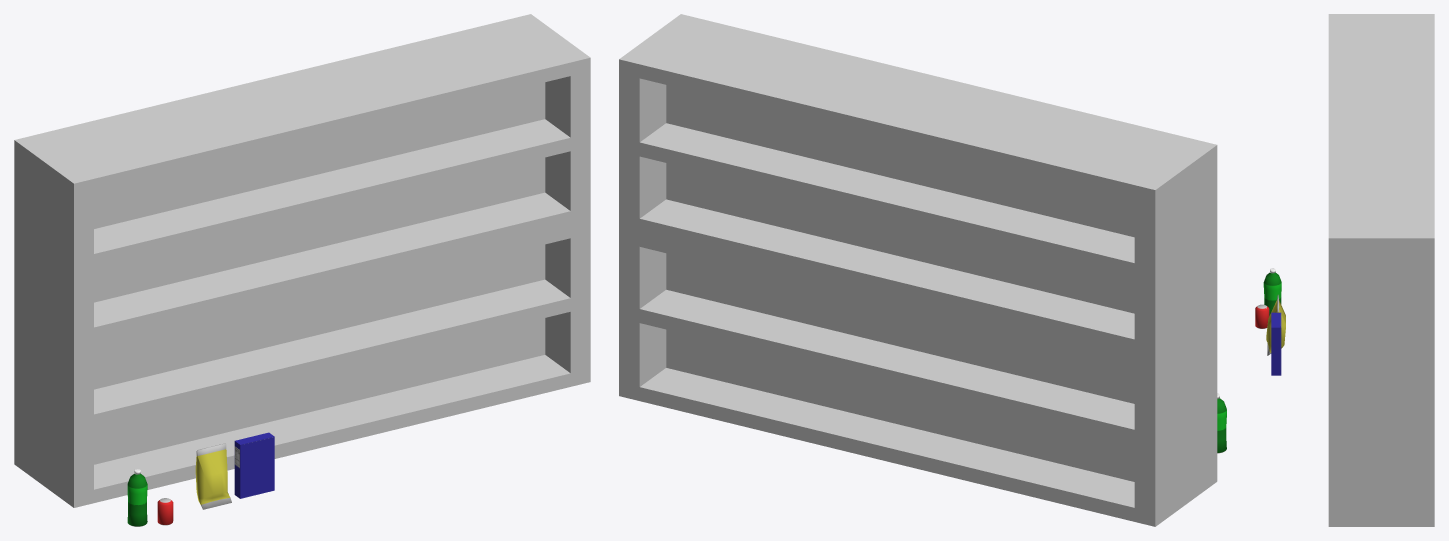
File: Shelf.fbx
The picture shows the model from 3 angles, left to right: view 1: azimuth 30°, elevation 25°; view 2: azimuth 150°, elevation 25°; view 3: azimuth 270°, elevation 25°; orthographic projection. The views are drawn at different scales.
Parts seen in each view (by area): view 1: shelf, Box, Chips, Bottle; view 2: shelf; view 3: shelf, Box, Bottle, Chips, Cans.
Boxes of the visible parts, x1,y1,x2,y2 form: shelf: [14, 14, 590, 507]; Box: [234, 432, 274, 498]; Chips: [195, 443, 231, 509]; Bottle: [127, 469, 147, 526]; shelf: [619, 14, 1217, 526]; shelf: [1328, 14, 1434, 526]; Box: [1271, 312, 1281, 375]; Bottle: [1263, 268, 1281, 315]; Chips: [1266, 294, 1285, 355]; Cans: [1255, 304, 1269, 328].
Size of the model in its own units: 2000 by 1201 by 677.
